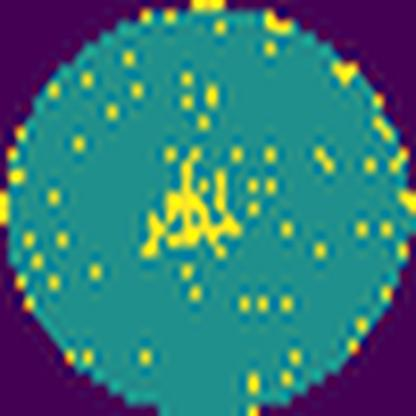Center: (139, 145, 242, 257)
